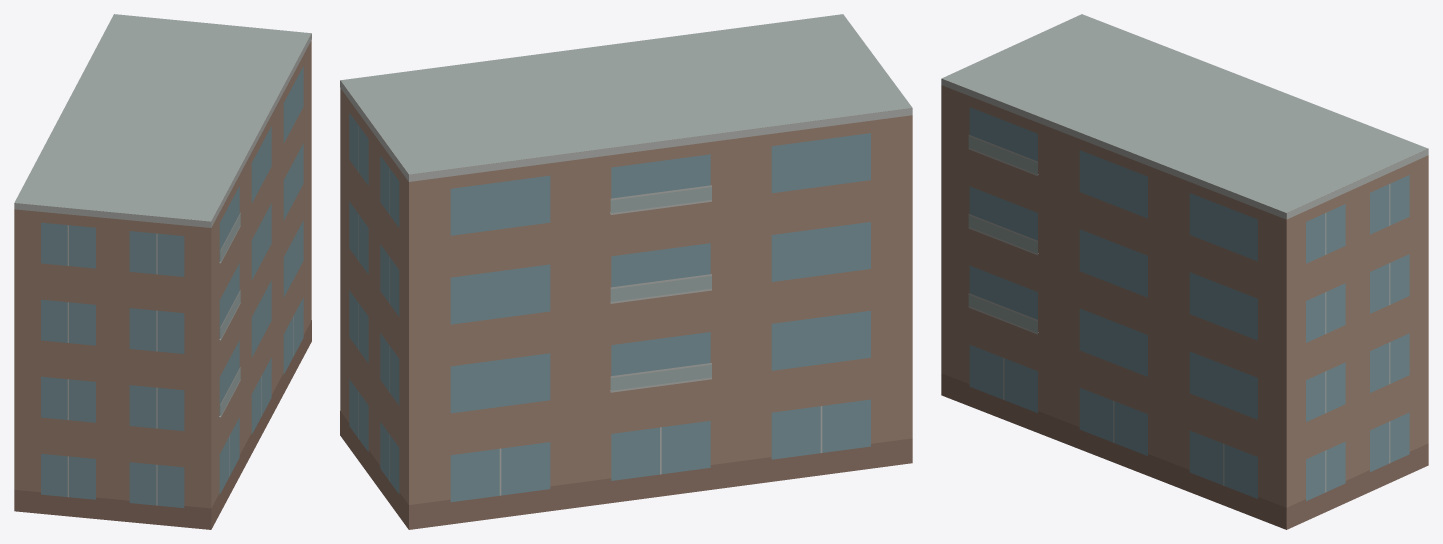
Rendered from survey-upis-32883703.glb.
The picture shows the model from 3 angles, left to right: view 1: azimuth 30°, elevation 25°; view 2: azimuth 150°, elevation 25°; view 3: azimuth 270°, elevation 25°; orthographic projection. The views are drawn at different scales.
Parts seen in each view (by area): view 1: survey-upis-32883703.tmp; view 2: survey-upis-32883703.tmp; view 3: survey-upis-32883703.tmp.
Part boxes in pixels (bbox=[...]): survey-upis-32883703.tmp: bbox=[14, 14, 311, 529]; survey-upis-32883703.tmp: bbox=[340, 14, 912, 529]; survey-upis-32883703.tmp: bbox=[941, 14, 1428, 529].
Size of the model in its own units: 15.91 by 11.8 by 16.45.
